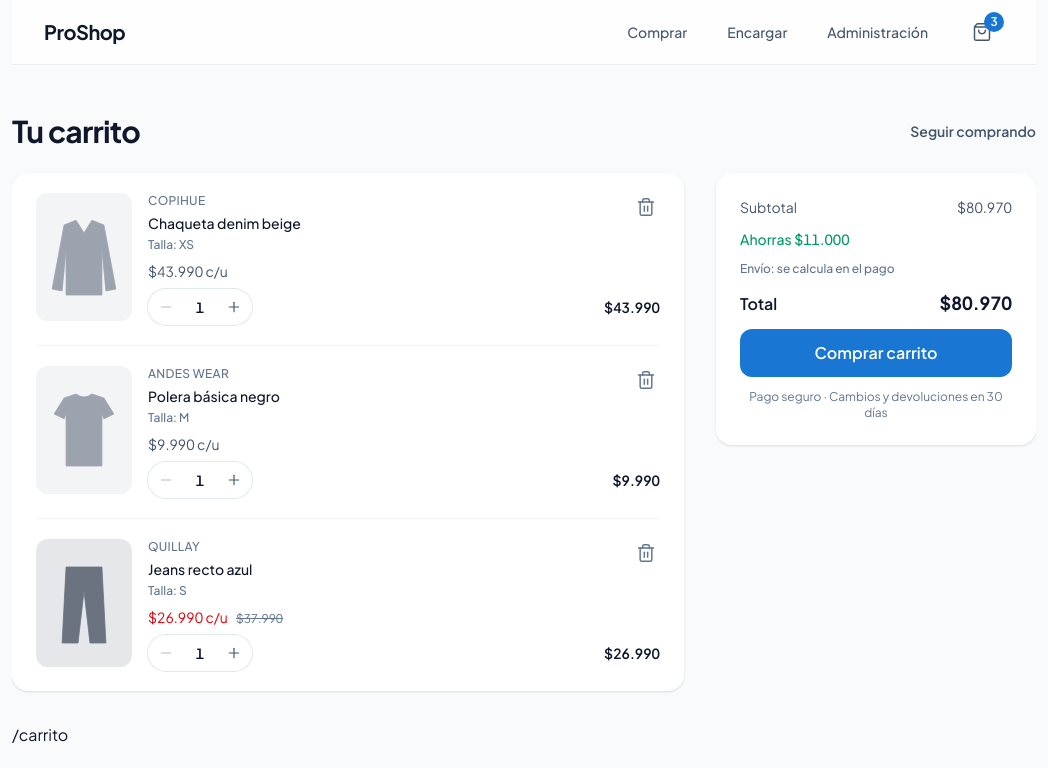
Carrito › al eliminar una línea desaparece y "Deshacer" la devuelve a la misma posición
Click the button named "Eliminar Polera básica negro, talla M" at (646, 380), box [624,358,668,402]
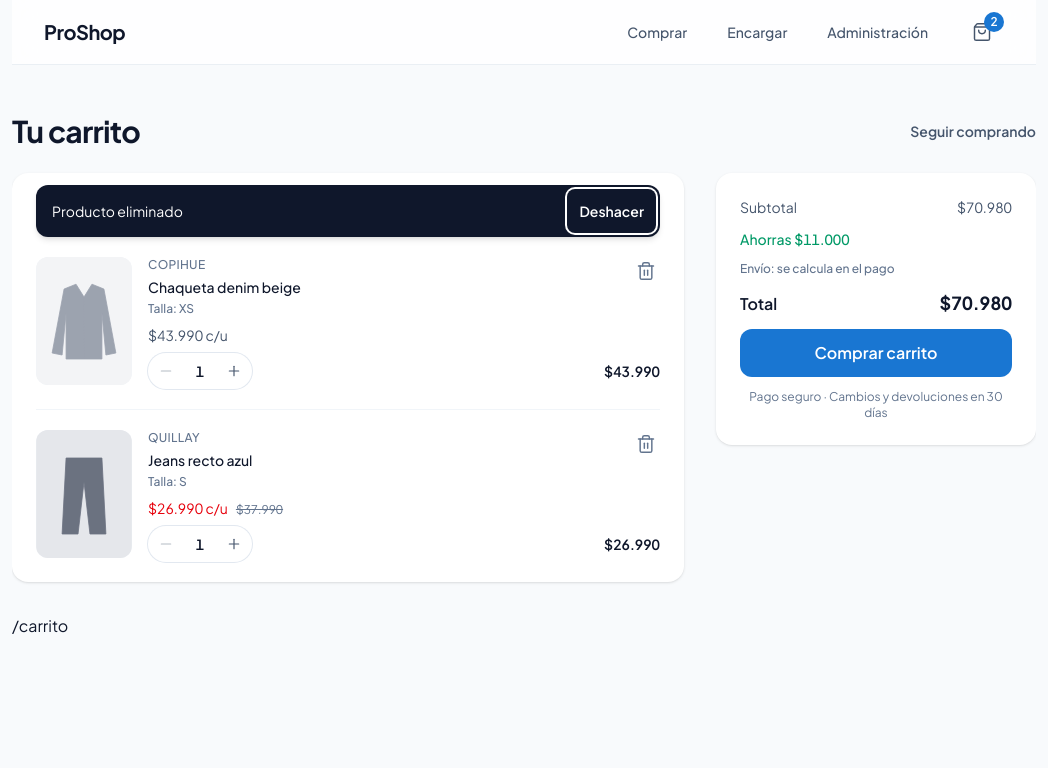
Now the number of list items is 2, box [36,237,660,410]; [36,410,660,582]
Now the text "Talla: M" is gone
Now the text "Producto eliminado" is shown, box [52,201,183,221]
Click the button "Deshacer" at (612, 211), box [567,189,656,233]
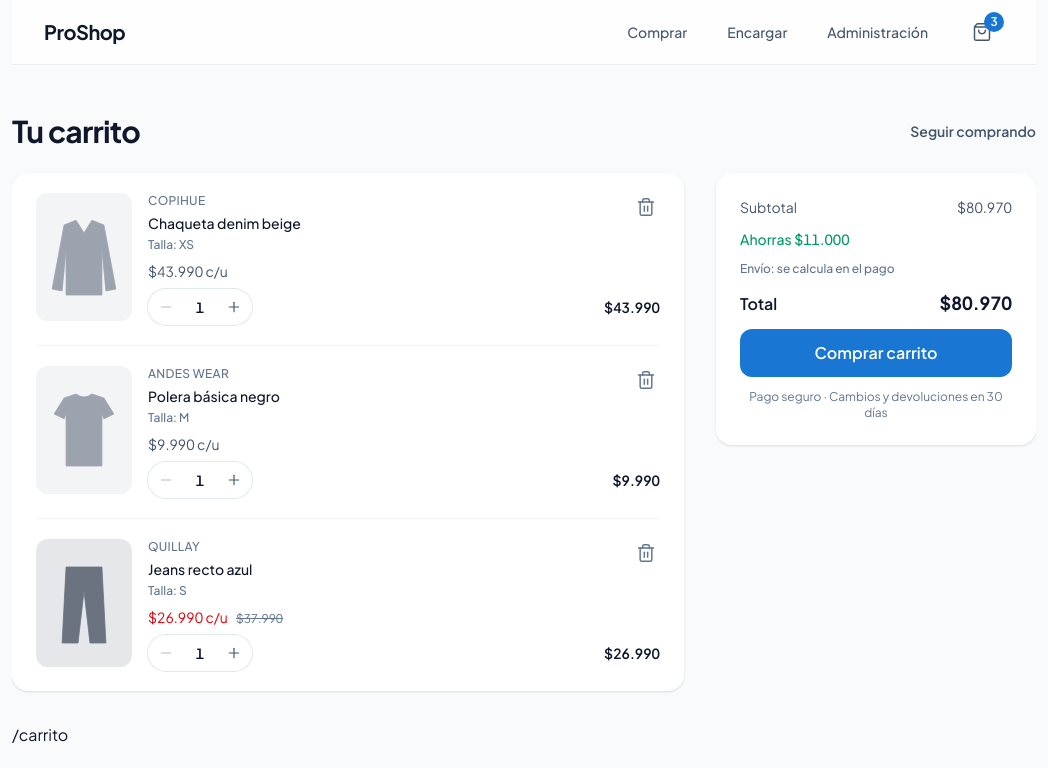
Now the number of list items is 3, box [36,173,660,346]; [36,346,660,519]; [36,519,660,691]
Now the text "Polera básica negro" is shown, box [148,386,280,406]
Now the button "Deshacer" is gone
